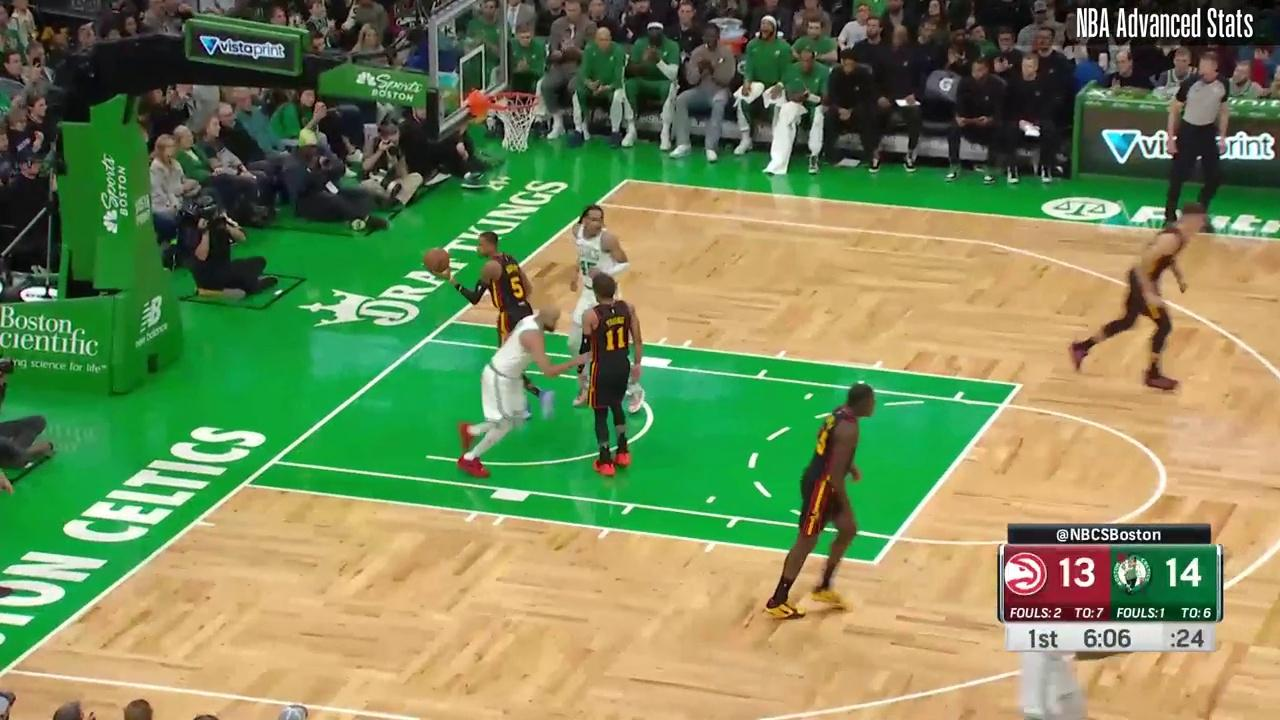3_dx: (595, 201, 602, 208)
3_sx: (2, 665, 11, 674)
b_dx: (624, 177, 630, 183)
free_adx: (1014, 380, 1024, 390)
free_asx: (871, 558, 880, 567)
free_bdx: (448, 318, 455, 324)
free_bsx: (241, 480, 249, 488)
referee: (1165, 52, 1228, 232)
team: (455, 301, 591, 478), (566, 204, 646, 415)
team1: (761, 383, 875, 619), (1067, 200, 1206, 392), (426, 231, 555, 421)
timer: (1082, 625, 1135, 649)
